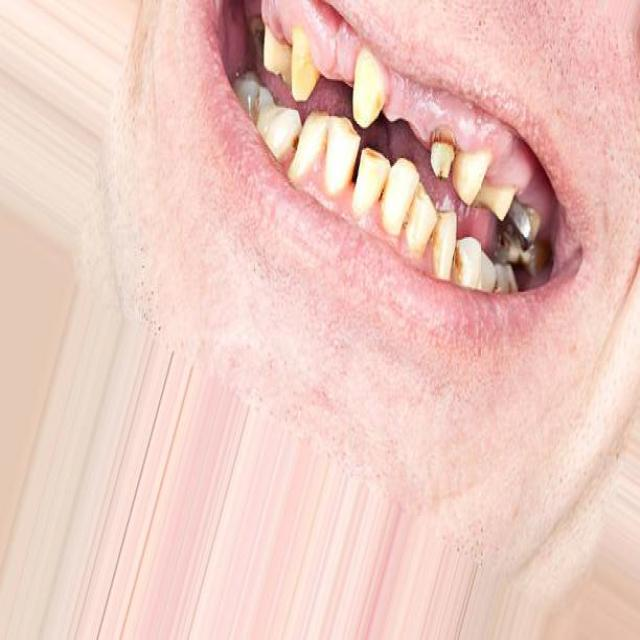caries: (502, 191, 541, 268), (246, 15, 268, 70), (448, 237, 468, 292)
